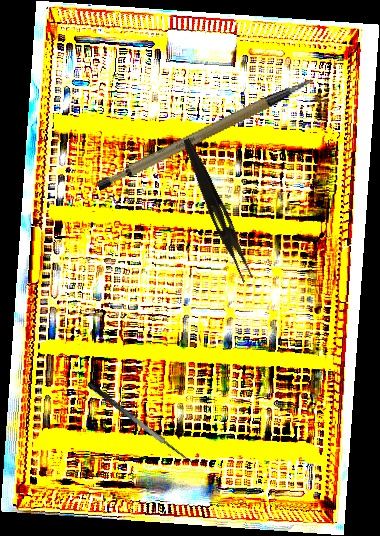Dressing Forceps: (175, 136, 259, 284)
Scalpel Handle: (86, 77, 328, 194)
Spatula Surgical: (86, 372, 200, 470)
